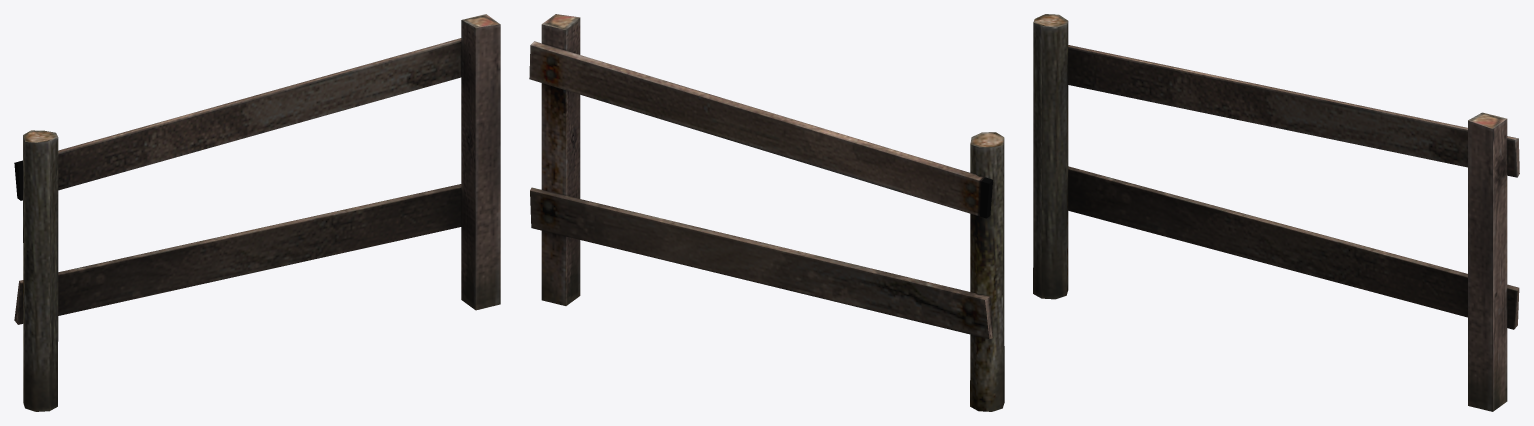
Rendered from Short_Fence.fbx.
The picture shows the model from 3 angles, left to right: view 1: azimuth 30°, elevation 25°; view 2: azimuth 150°, elevation 25°; view 3: azimuth 330°, elevation 25°; orthographic projection. The views are drawn at different scales.
Visible parts, largest first — view 1: Short_Fence; view 2: Short_Fence; view 3: Short_Fence.
Part boxes in pixels (left/top/right/bottom): Short_Fence: left=14, top=14, right=500, bottom=411; Short_Fence: left=529, top=14, right=1004, bottom=411; Short_Fence: left=1033, top=14, right=1519, bottom=411.
Bounding box in the file's own units: 3.83 × 2.18 × 0.3236.
